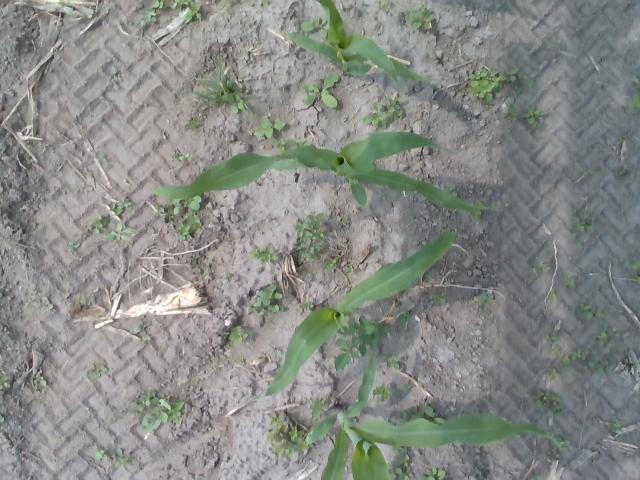Maize: (304, 357, 564, 480), (266, 230, 456, 392), (152, 131, 490, 219), (286, 0, 440, 92)
Weeds: (186, 56, 258, 116), (332, 315, 387, 371), (130, 387, 186, 430), (267, 413, 314, 461), (296, 212, 326, 260), (302, 74, 338, 110), (468, 68, 502, 106), (362, 96, 402, 128), (158, 196, 202, 222), (250, 282, 284, 315), (397, 404, 446, 425), (384, 444, 410, 480), (502, 68, 536, 95), (532, 388, 564, 416), (403, 5, 436, 31), (298, 14, 328, 39), (253, 116, 286, 138), (175, 214, 202, 240), (169, 0, 201, 21), (576, 301, 606, 322), (522, 106, 550, 128), (106, 222, 137, 241), (498, 96, 520, 122), (596, 328, 622, 350), (223, 322, 249, 344), (369, 382, 392, 406), (250, 244, 278, 263), (306, 396, 328, 420), (546, 430, 570, 452), (276, 138, 308, 154), (573, 212, 595, 234), (562, 347, 590, 364), (109, 196, 133, 215), (88, 213, 110, 233), (132, 320, 152, 342), (138, 8, 158, 28), (115, 446, 134, 467), (588, 356, 610, 374), (420, 467, 445, 480), (531, 260, 552, 274), (477, 293, 494, 310), (90, 362, 108, 378), (384, 352, 400, 370), (608, 416, 626, 431), (91, 445, 108, 460), (398, 308, 412, 326), (441, 182, 457, 197), (171, 150, 191, 162), (472, 201, 484, 220), (631, 259, 640, 284), (432, 290, 446, 306), (188, 114, 202, 130), (628, 92, 640, 110), (376, 0, 391, 14), (108, 66, 121, 82), (190, 257, 202, 274), (0, 374, 12, 390), (614, 164, 628, 177), (564, 276, 576, 290), (36, 376, 49, 388), (325, 258, 338, 270), (151, 0, 167, 9), (298, 300, 314, 309), (548, 346, 562, 356), (400, 382, 413, 392), (631, 74, 640, 88), (547, 334, 559, 344), (550, 288, 560, 300), (547, 450, 557, 462), (68, 241, 81, 250), (548, 369, 560, 378), (78, 296, 90, 304), (98, 153, 108, 162), (584, 169, 598, 175), (30, 290, 38, 300), (346, 267, 356, 274), (235, 17, 242, 25), (619, 347, 628, 353), (220, 0, 246, 2), (542, 306, 548, 313), (324, 433, 331, 439), (262, 0, 271, 4), (0, 414, 4, 423)
